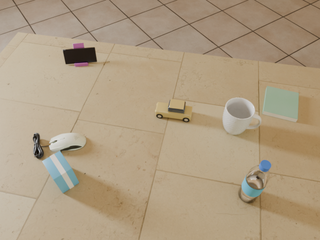book: (262, 86, 299, 122)
bottle: (238, 160, 271, 203)
box: (42, 151, 79, 193)
cup: (223, 98, 261, 135)
mouse: (49, 133, 86, 152)
phone: (63, 47, 97, 64)
toy_car: (155, 99, 192, 122)
